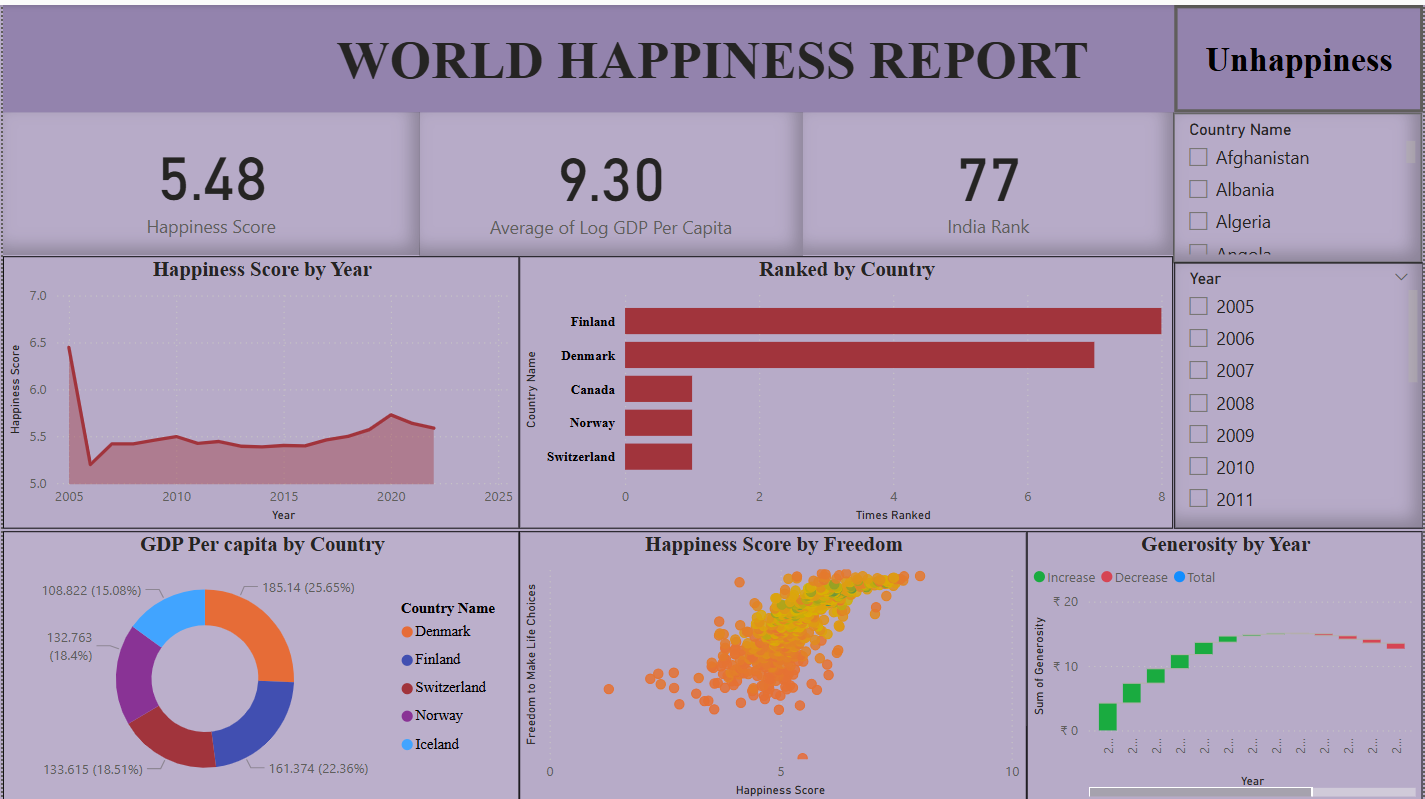

What the dashboard file says about the page in this screenshot:
{"tool":"powerbi","page":{"name":"Dahboard 1","canvas":[1280,720],"ordinal":0},"visuals":[{"type":"textbox","box":[0,0,1280,97.1],"z":0},{"type":"slicer","fields":{"Values":["Sheet1.Country Name"]},"box":[1055.3,96.6,225,135.7],"z":1000},{"type":"card","fields":{"Values":["Sheet1.India Rank"]},"box":[721.2,97,334.4,128.9],"z":2000},{"type":"card","fields":{"Values":["Sheet1.Happiness Score"]},"box":[0,97.1,375.7,128.6],"z":3000},{"type":"card","fields":{"Values":["Avg(Sheet1.Log GDP Per Capita)"]},"box":[375.4,96.6,346.1,129.6],"z":4000},{"type":"scatterChart","title":"Happiness Score by Freedom ","fields":{"X":["Sheet1.Happiness Score"],"Y":["Sheet1.Freedom to Make Life Choices"]},"box":[465.9,474.5,457.3,245.8],"z":5000},{"type":"clusteredBarChart","title":" Ranked by Country","fields":{"Category":["Sheet1.Country Name"],"Y":["Sheet1.Times Ranked"]},"box":[465.9,226.2,589.4,245.8],"z":6000},{"type":"stackedAreaChart","fields":{"Category":["Sheet1.Year"],"Y":["Sheet1.Happiness Score"]},"box":[0,226.2,465.9,245.8],"z":7000},{"type":"slicer","fields":{"Values":["Sheet1.Year"]},"box":[1055.6,232.3,224.7,240],"z":8000},{"type":"waterfallChart","title":"Generosity by Year","fields":{"Category":["Sheet1.Year"],"Y":["Sum(Sheet1.Generosity)"]},"box":[923.2,474.5,357.1,245.8],"z":9000},{"type":"actionButton","box":[1055.6,0,224.7,97],"z":10000},{"type":"donutChart","title":"GDP Per capita by Country","fields":{"Y":["Sum(Sheet1.Log GDP Per Capita)"],"Category":["Sheet1.Country Name"]},"box":[0,474.5,465.9,245.8],"z":11000}]}

Visuals, with their boxes in screenshot pixels (x1, y1, x2, y2), scaled from the page's 1280x720 canvas onto the 1425x799 screenshot:
textbox: {"left": 0, "top": 0, "right": 1424, "bottom": 108}
slicer - Sheet1.Country Name: {"left": 1175, "top": 107, "right": 1424, "bottom": 258}
card - Sheet1.India Rank: {"left": 803, "top": 108, "right": 1175, "bottom": 251}
card - Sheet1.Happiness Score: {"left": 0, "top": 108, "right": 418, "bottom": 250}
card - Avg(Sheet1.Log GDP Per Capita): {"left": 418, "top": 107, "right": 803, "bottom": 251}
"Happiness Score by Freedom " scatterChart: {"left": 519, "top": 527, "right": 1028, "bottom": 798}
" Ranked by Country" clusteredBarChart: {"left": 519, "top": 251, "right": 1175, "bottom": 524}
stackedAreaChart - Sheet1.Year x Sheet1.Happiness Score: {"left": 0, "top": 251, "right": 519, "bottom": 524}
slicer - Sheet1.Year: {"left": 1175, "top": 258, "right": 1424, "bottom": 524}
"Generosity by Year" waterfallChart: {"left": 1028, "top": 527, "right": 1424, "bottom": 798}
actionButton: {"left": 1175, "top": 0, "right": 1424, "bottom": 108}
"GDP Per capita by Country" donutChart: {"left": 0, "top": 527, "right": 519, "bottom": 798}
